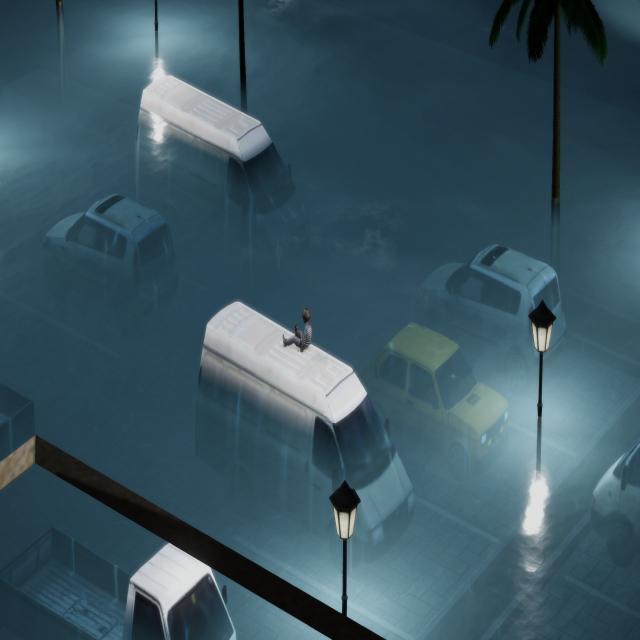Human: (277, 295, 314, 362)
